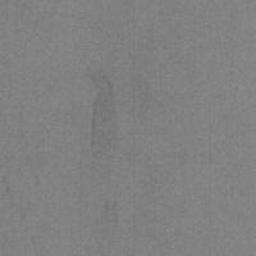Water spot: (91, 73, 116, 154)
